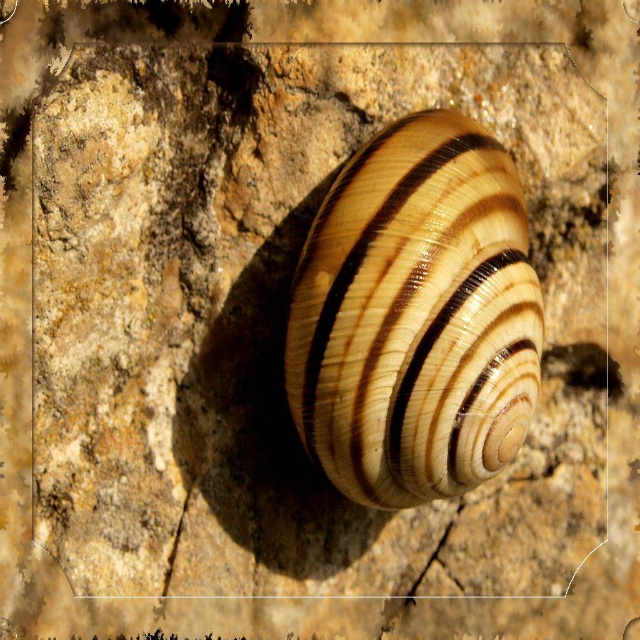Snail: (279, 103, 546, 517)
